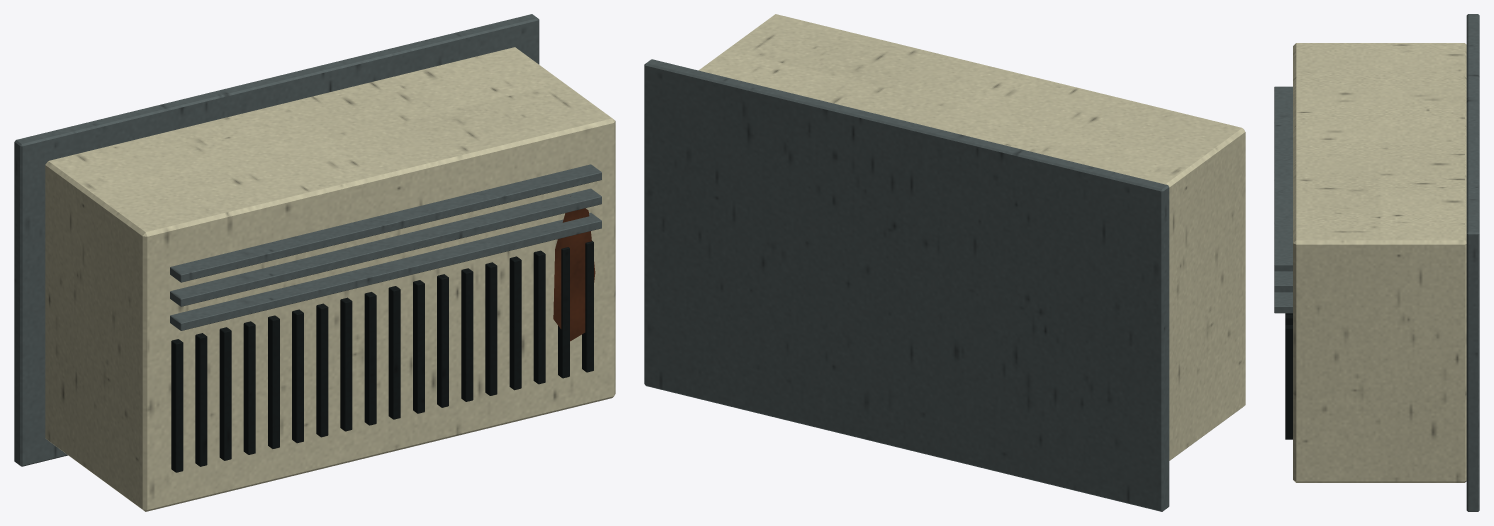
File: through_wall_ac.glb
3 renders of one model, left to right at view 1: azimuth 30°, elevation 25°; view 2: azimuth 150°, elevation 25°; view 3: azimuth 270°, elevation 25°, orthographic. The views are drawn at different scales.
Parts seen in each view (by area): view 1: through_wall_ac; view 2: through_wall_ac; view 3: through_wall_ac.
Part boxes in pixels (box(x1,y1,x2,y2)): through_wall_ac: box(14, 14, 615, 511); through_wall_ac: box(644, 14, 1245, 511); through_wall_ac: box(1274, 14, 1479, 511).
Size of the model in its own units: 1.01 by 0.6 by 0.399.
4 materials, 4 textured.
